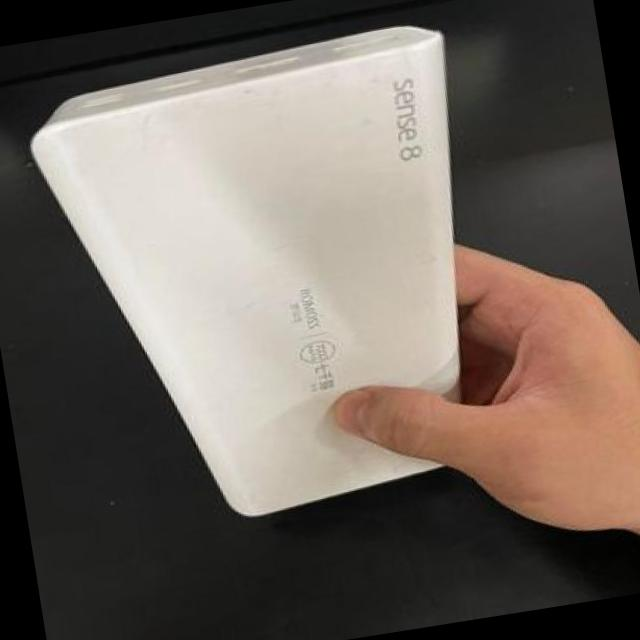power_bank: (11, 1, 524, 546)
